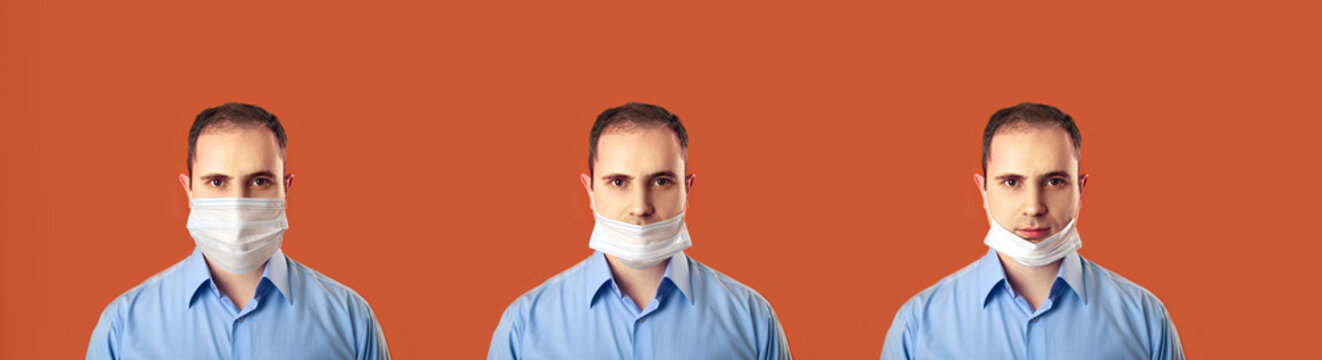mask_weared_incorrect: (586, 115, 696, 264), (979, 117, 1087, 268)
with_mask: (186, 113, 289, 271)
